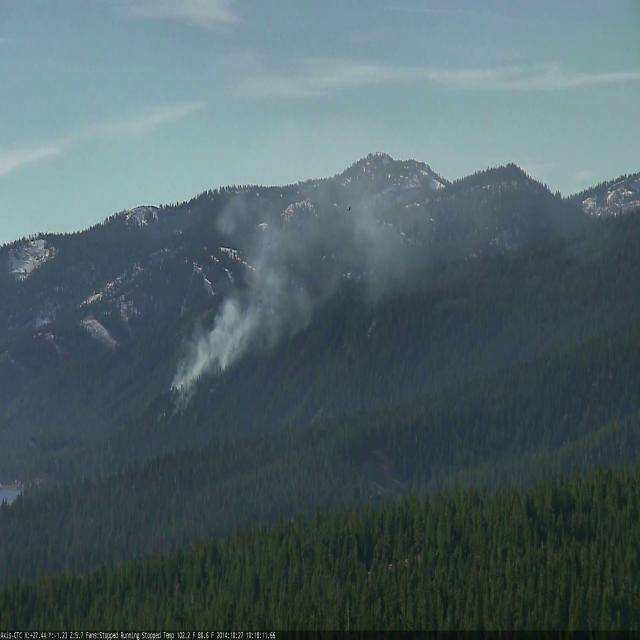smoke: (160, 142, 471, 430)
